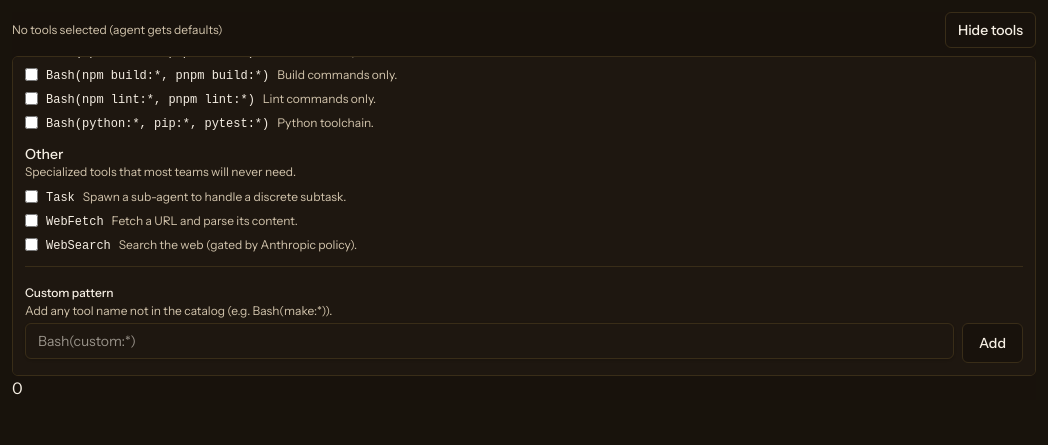
Test case: ToolMultiSelect › adds and removes a custom pattern
(page scrolled)
Type "Bash(make:*)" into the field with test id "tool-multiselect-custom-input" at (490, 341), box [25, 323, 954, 359]
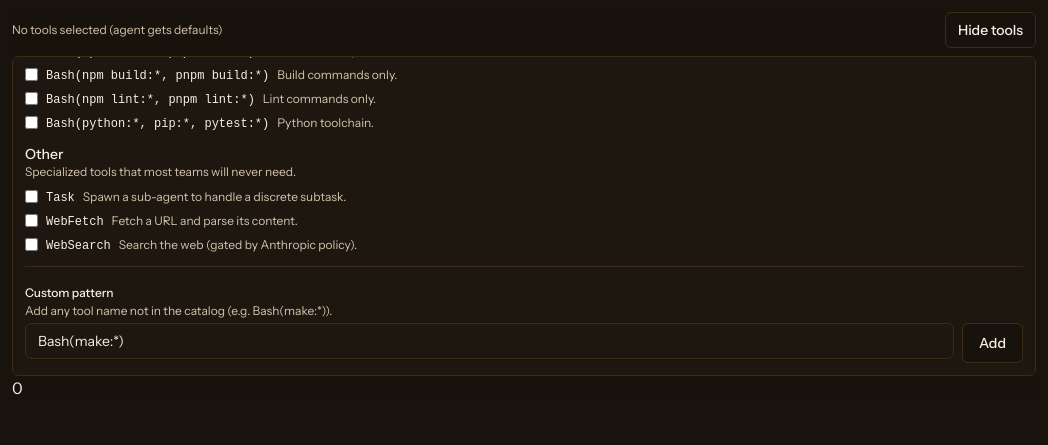
Click the button with test id "tool-multiselect-custom-add" at (992, 343), box [962, 323, 1023, 363]
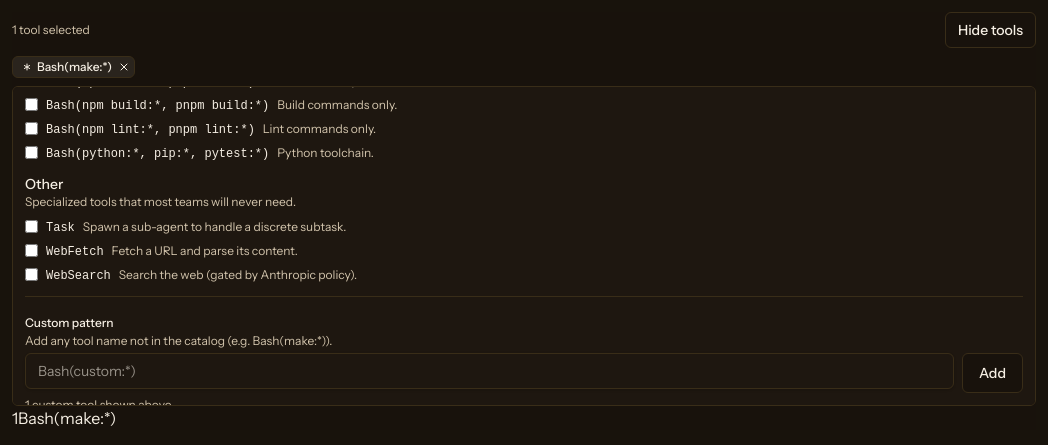
Result: the text with test id "harness-list" reads "Bash(make:*)" at [18, 408, 116, 428]
# Removal is an explicit X button inside the chip, not the whole badge.
Click the button with test id "tool-chip-remove-Bash(make:*)" at (124, 67), box [116, 59, 132, 75]
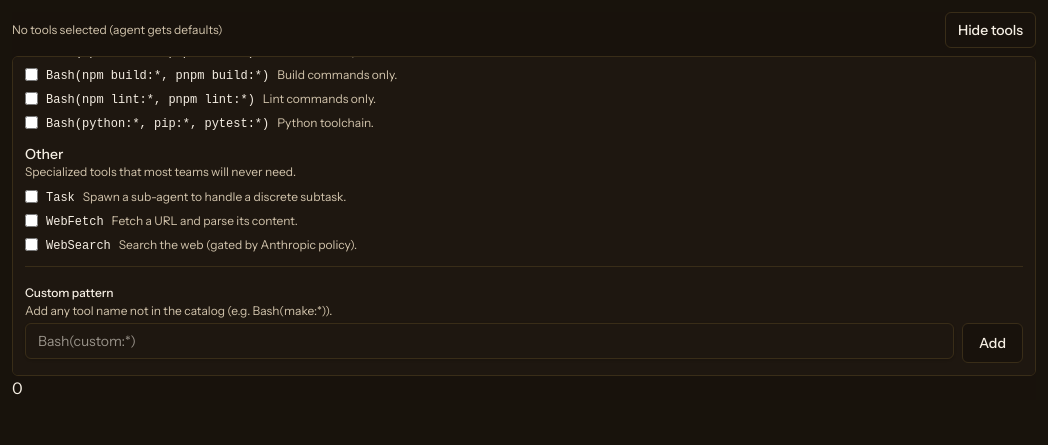
Result: the text with test id "harness-count" reads "0" at [12, 378, 23, 398]
